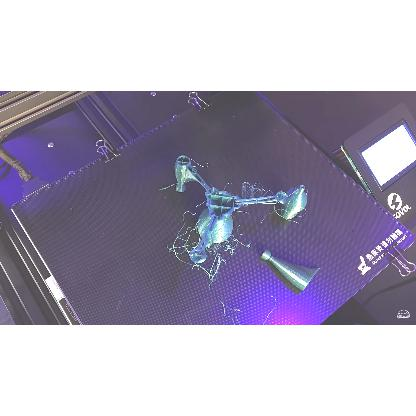fail: (208, 241, 248, 285), (217, 298, 245, 324), (168, 224, 196, 248), (238, 180, 268, 196)
